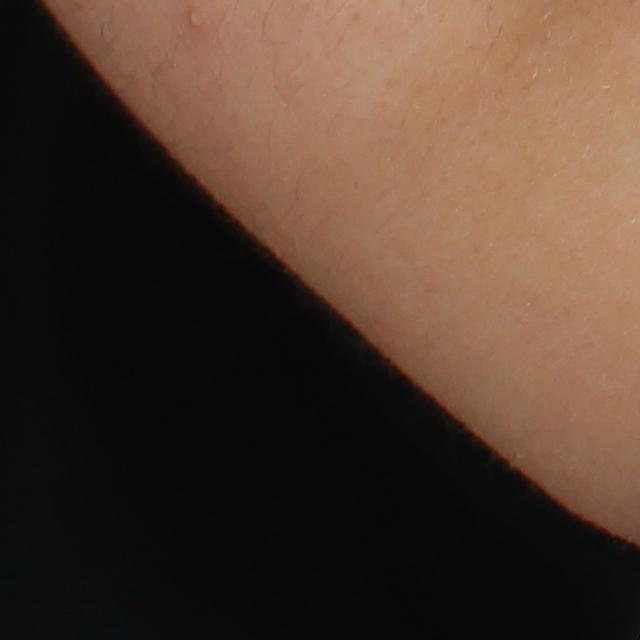papule: (186, 5, 210, 36)
